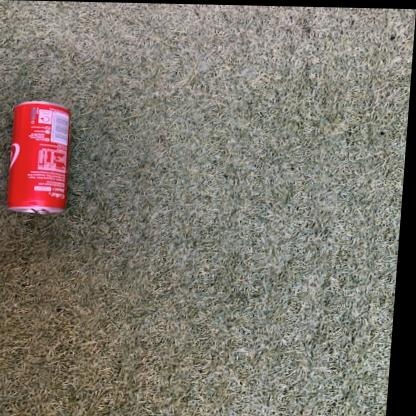trash: (7, 101, 69, 213)
